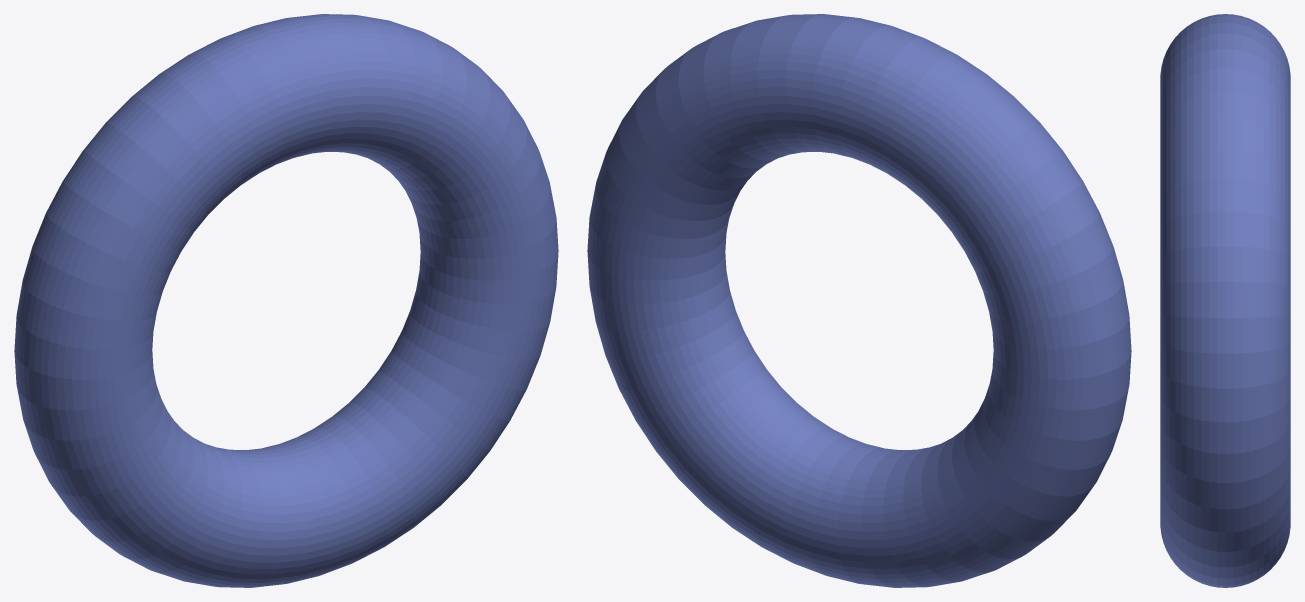
3 renders of one model, left to right at view 1: azimuth 30°, elevation 25°; view 2: azimuth 150°, elevation 25°; view 3: azimuth 270°, elevation 25°, orthographic. The views are drawn at different scales.
Parts seen in each view (by area): view 1: world; view 2: world; view 3: world.
Part boxes in pixels (x1,y1,x2,y2): world: [14, 14, 558, 587]; world: [587, 14, 1131, 587]; world: [1160, 14, 1290, 587].
Bounding box in the file's own units: 14.67 × 14.64 × 3.33.
